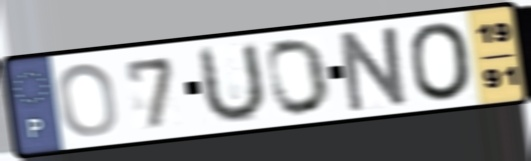7: (121, 53, 178, 131)
N: (337, 22, 413, 115)
O: (405, 19, 476, 103), (264, 36, 334, 118), (54, 60, 121, 139)
U: (196, 39, 269, 128)
